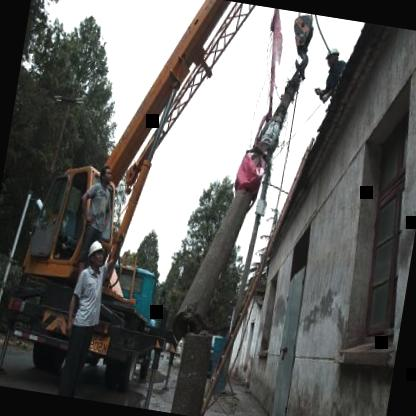head: (96, 158, 117, 188)
helmet: (85, 235, 109, 270), (322, 41, 344, 68)
